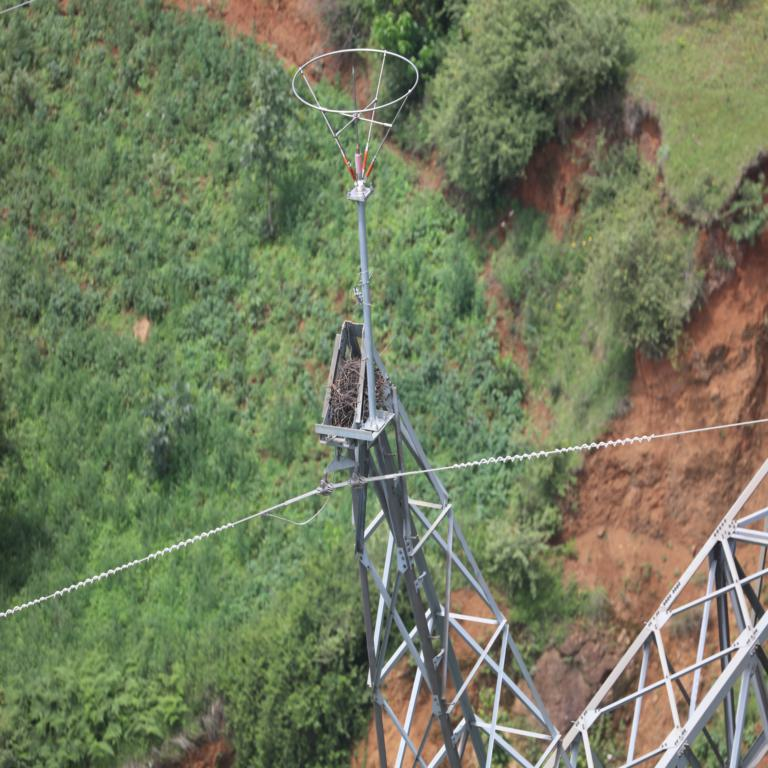nest: (328, 359, 387, 428)
